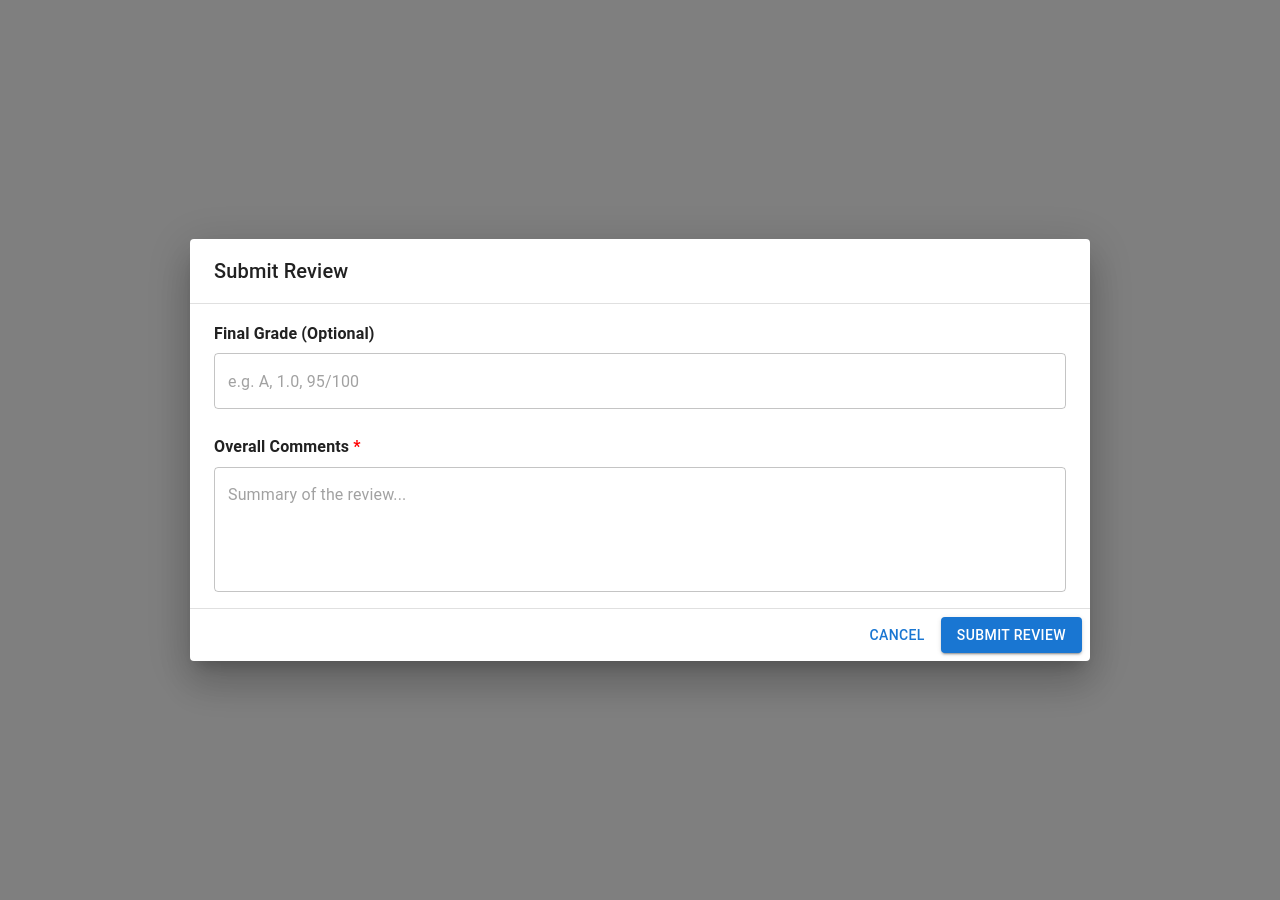
Scenario: ReviewFormModal component › shows error if overall comments are missing
Check: the heading "Overall Comments *" is shown, box x1=214 y1=437 x2=361 y2=456
Click the button "Submit Review" at [1011, 635], box x1=941 y1=617 x2=1082 y2=653
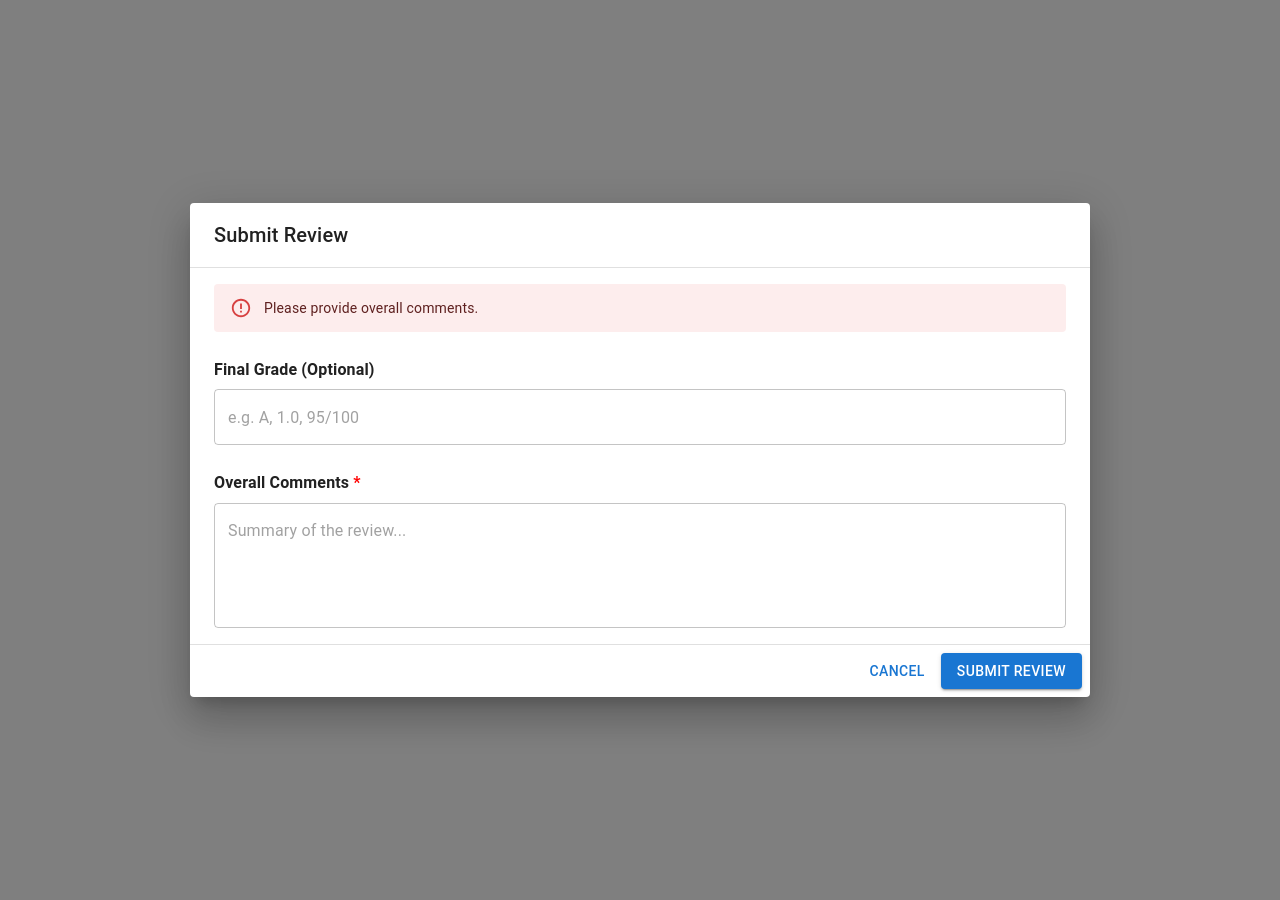
Check: the text "Please provide overall comments." is shown, box x1=264 y1=300 x2=478 y2=316
